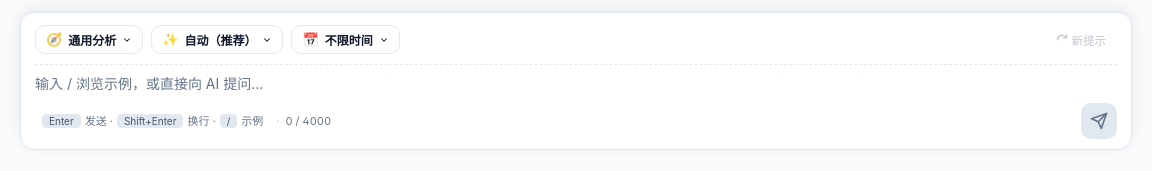
InputBar › shows character count
Type "abc" into the text box.
click(576, 84); type("abc")  # box [35,73,1117,95]
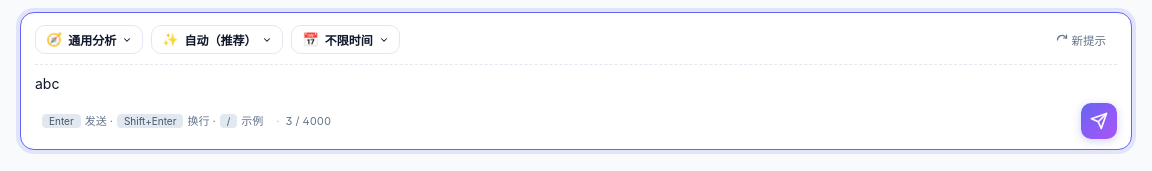
expect the text "3 / 4000" is shown: met, box [286,114,331,128]
